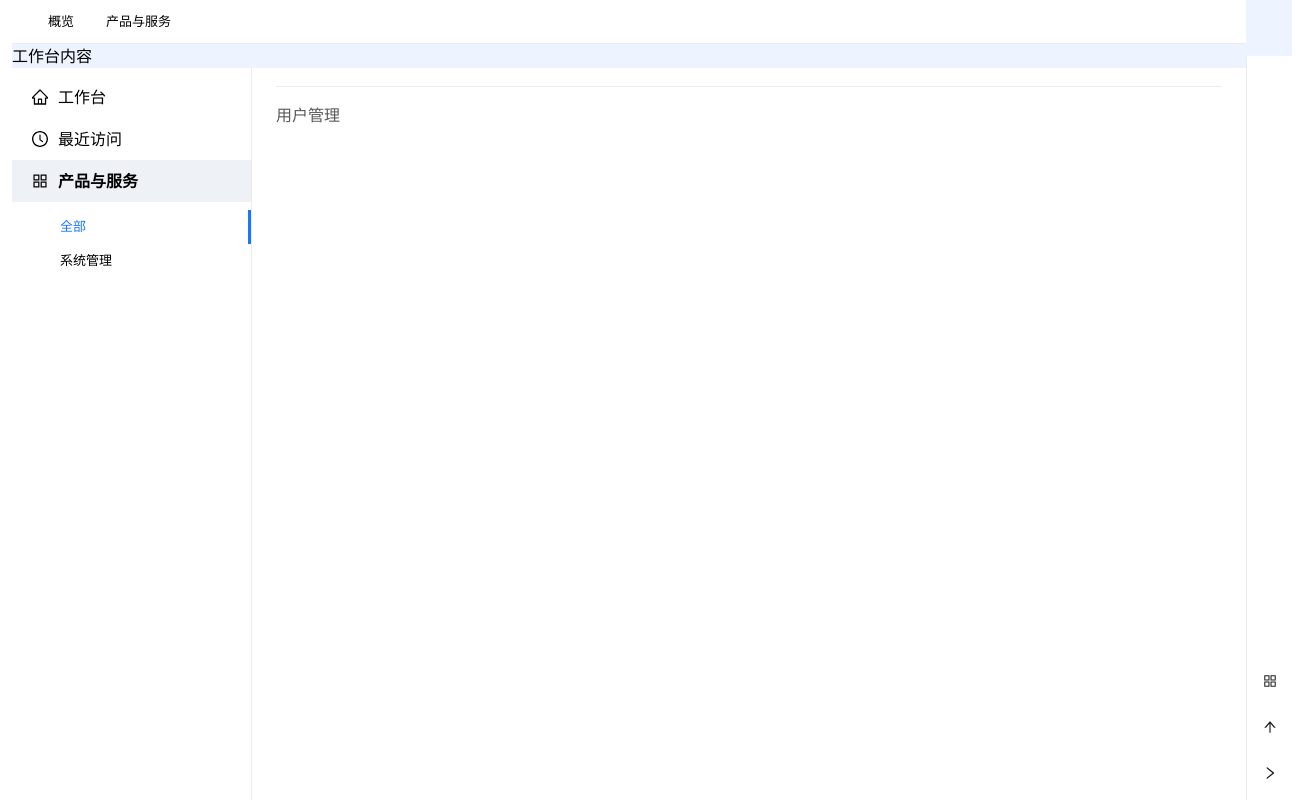
Test: console shell › keeps the rail toggle available after collapse
The image size is (1304, 800).
Click the button named "收起工具栏".
click(1270, 773)  # box top-left (1250, 754), bottom-right (1288, 792)
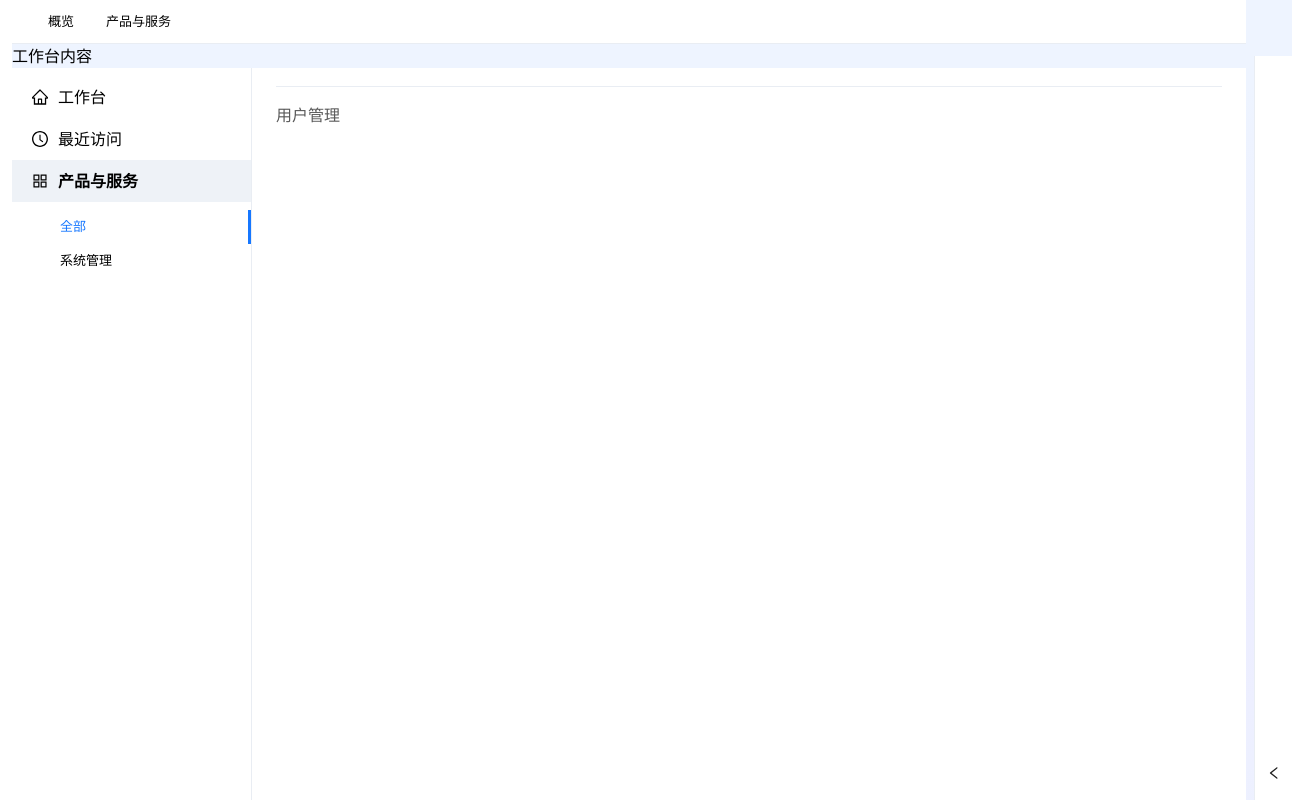
Now the button named "展开工具栏" is shown
Click the button named "展开工具栏".
click(1273, 773)  # box top-left (1254, 754), bottom-right (1292, 792)
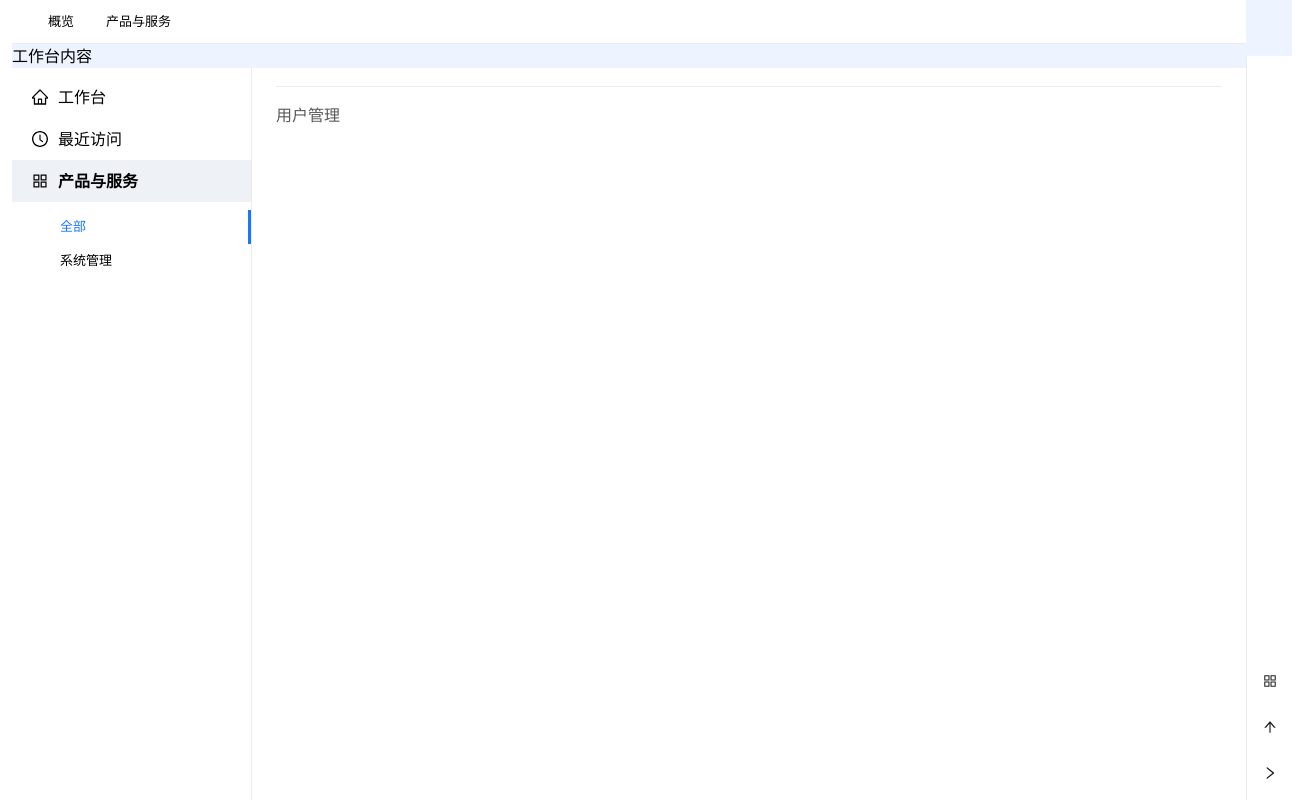
Now the button named "收起工具栏" is shown, box top-left (1250, 754), bottom-right (1288, 792)
